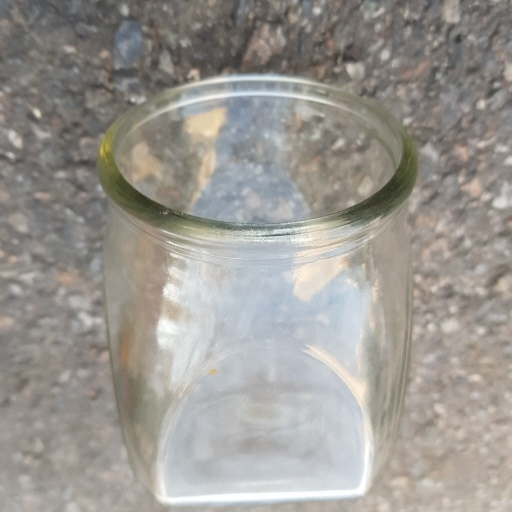Glass_5: (91, 71, 434, 504)
